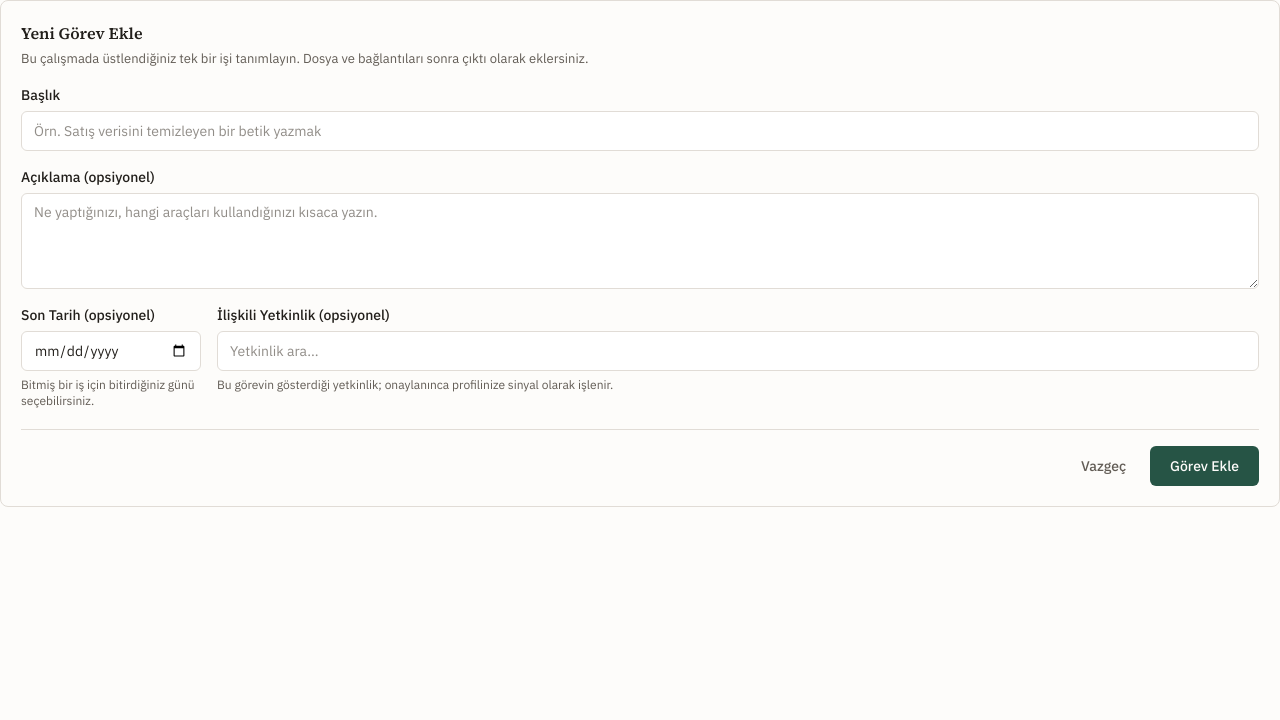
Test case: TaskForm › 403 FORBIDDEN → yetki hatası mesajı gösterilir
The image size is (1280, 720).
Type "x" into the field labelled "Başlık" at (640, 130), box left=21, top=110, right=1259, bottom=150
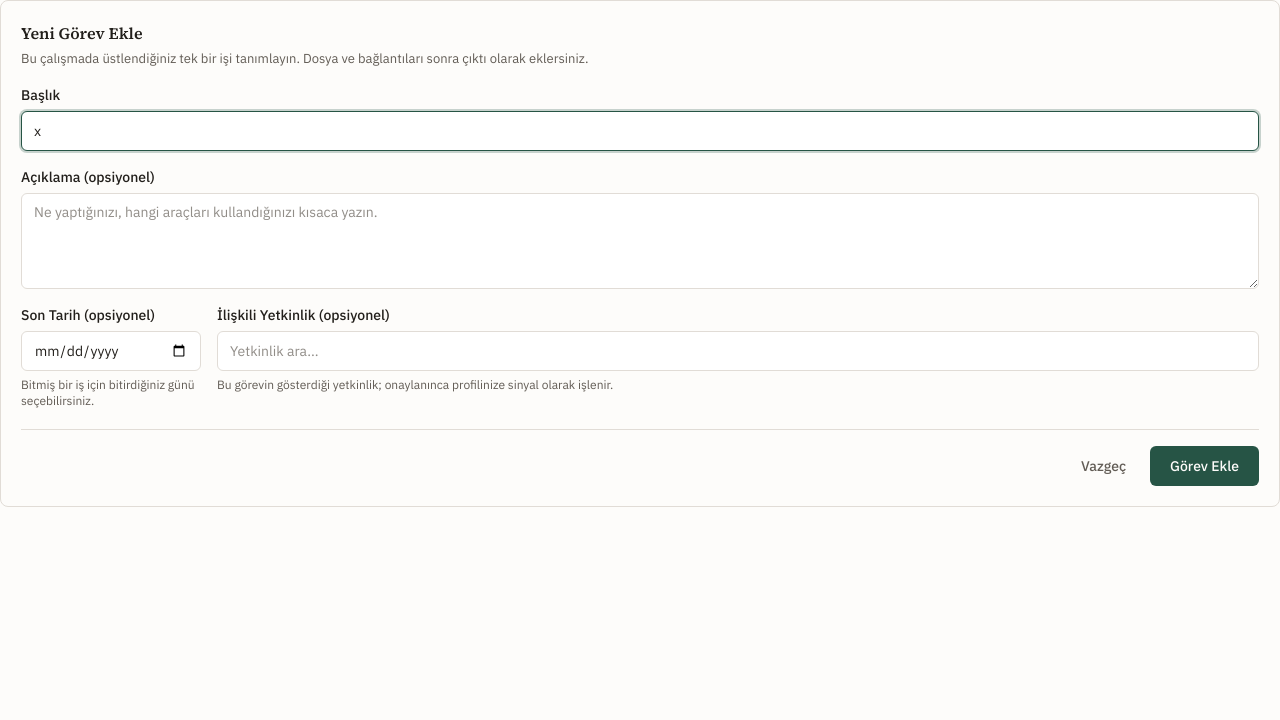
Click the button "Görev Ekle" at (1205, 466), box left=1150, top=446, right=1259, bottom=486
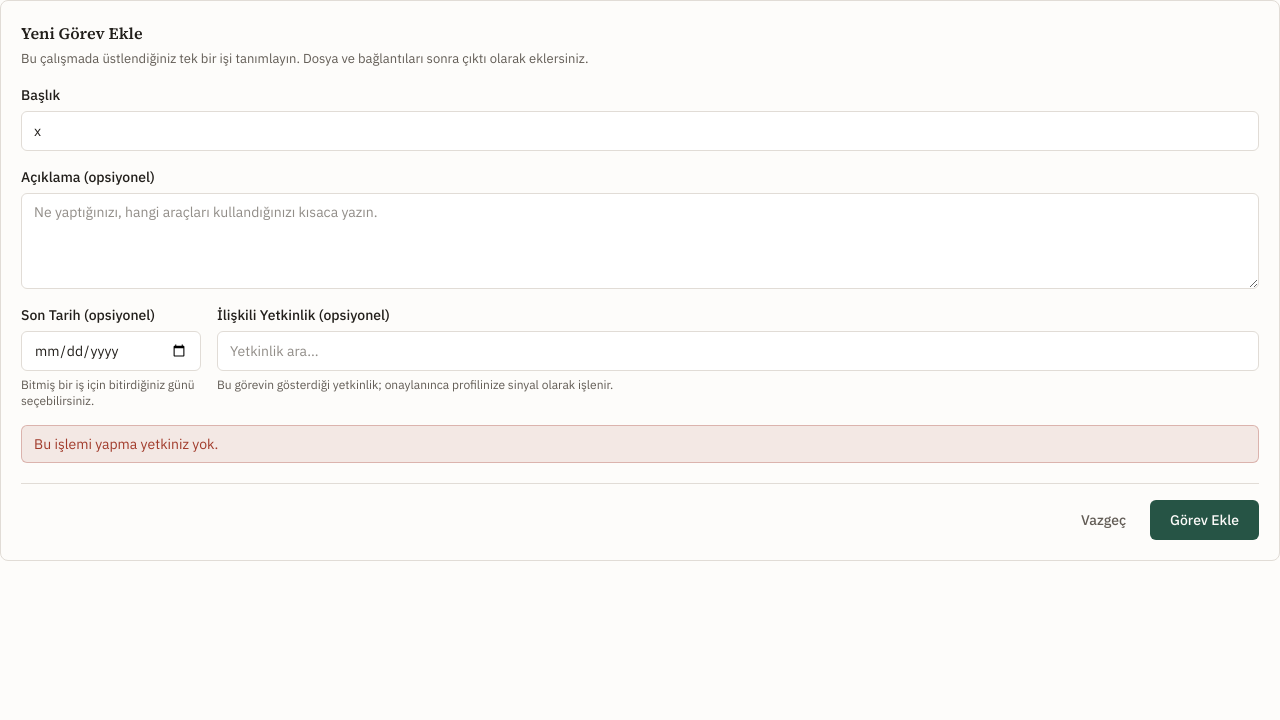
Now the text "Bu işlemi yapma yetkiniz yok." is shown, box left=21, top=424, right=1259, bottom=462
